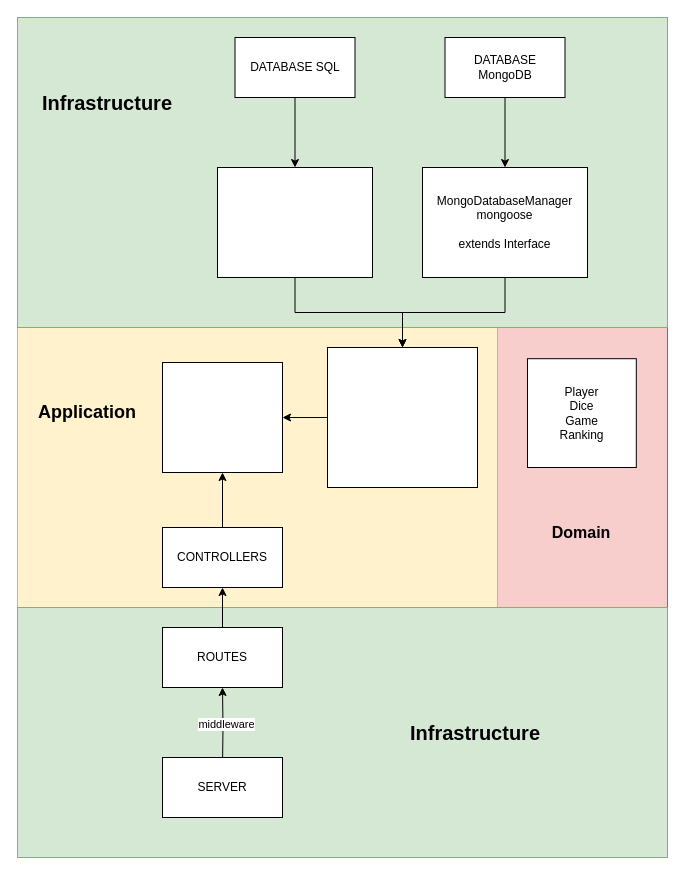
Some shapes in this 685 by 875 pixel diagram are drawn without their labels. The centre of each missing label's shape, as x and y in pixels:
"InterfaceRepositories: Game Player Ranking" belongs at (402,417).
"Services: Game Player Ranking use Interface" belongs at (222,417).
"SqlDatabaseManager sequelizder extends Interface" belongs at (294,222).
